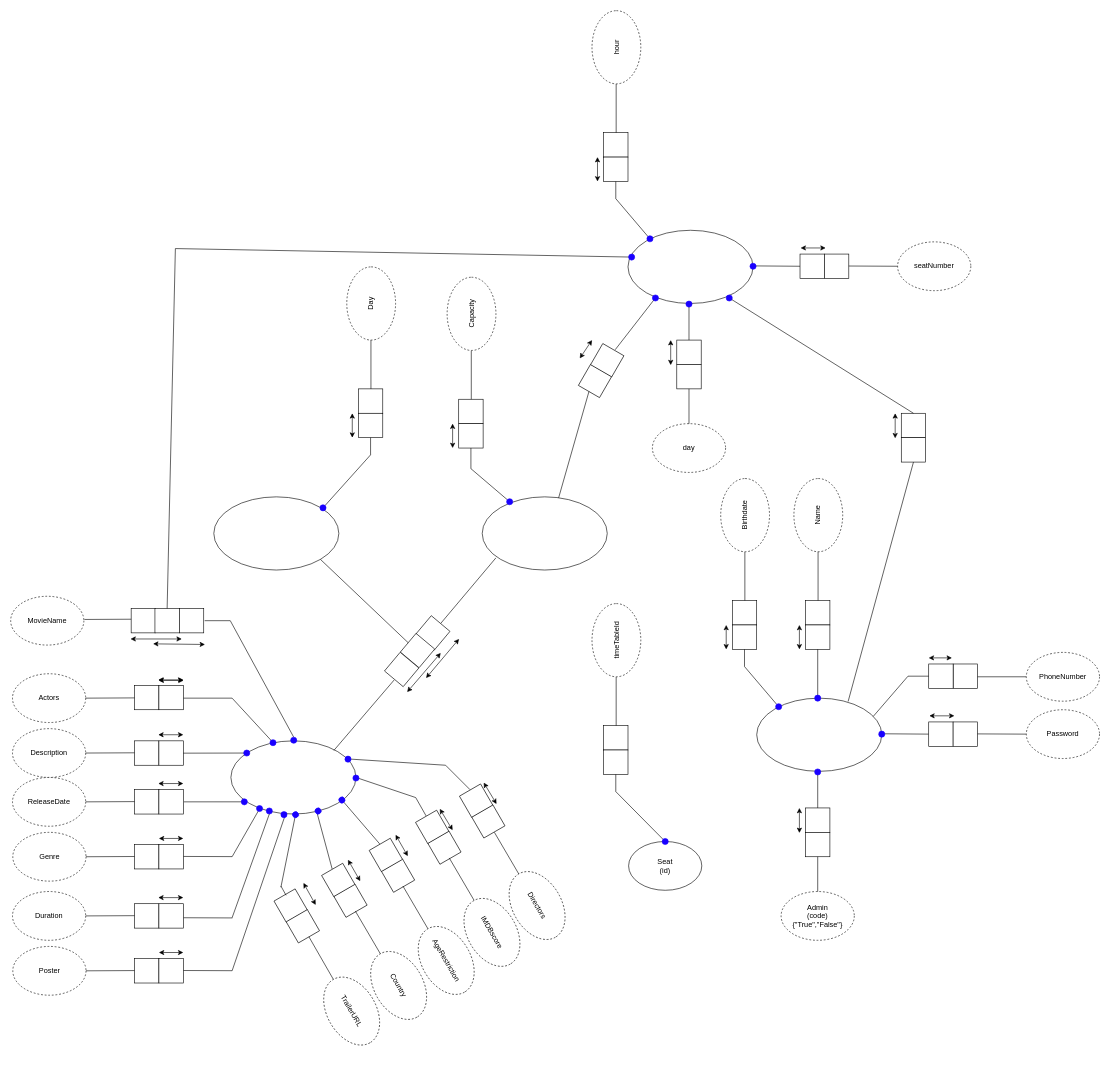
Some shapes in this 1110 by 1066 pixel diagram are drawn without their labels. The shapes that lost their labels are listed below. From the top down, each one's centre as x and y in pixels, then its label:
[690,266]: Movie reserved (id)
[276,533]: TimeTable (time)
[544,533]: Hall (id)
[819,734]: User (Email)
[293,777]: Movie (id)
